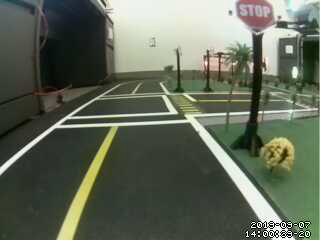Stop_Sign: (235, 1, 280, 36)
